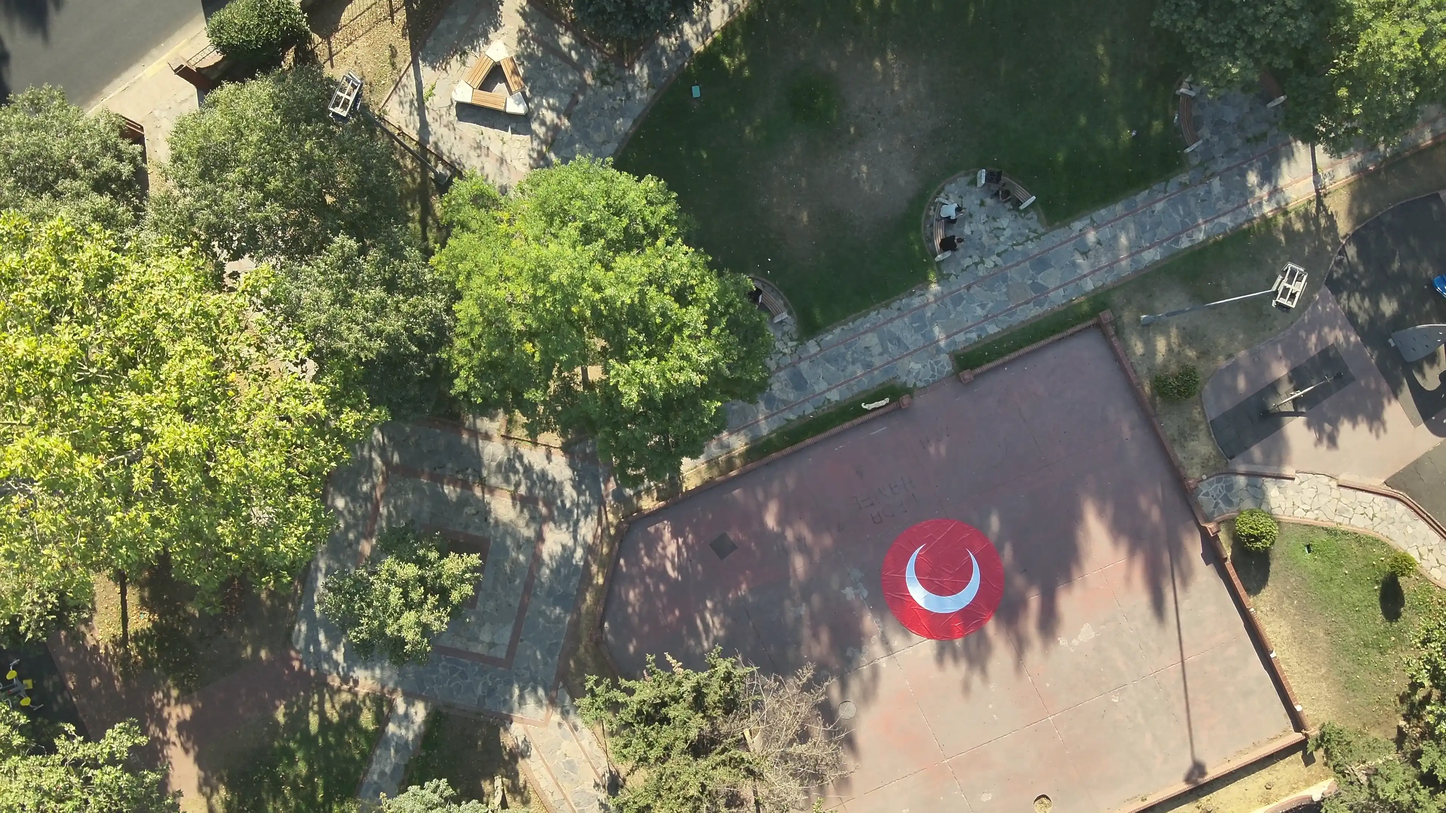person: (931, 198, 973, 225), (933, 232, 969, 257)
